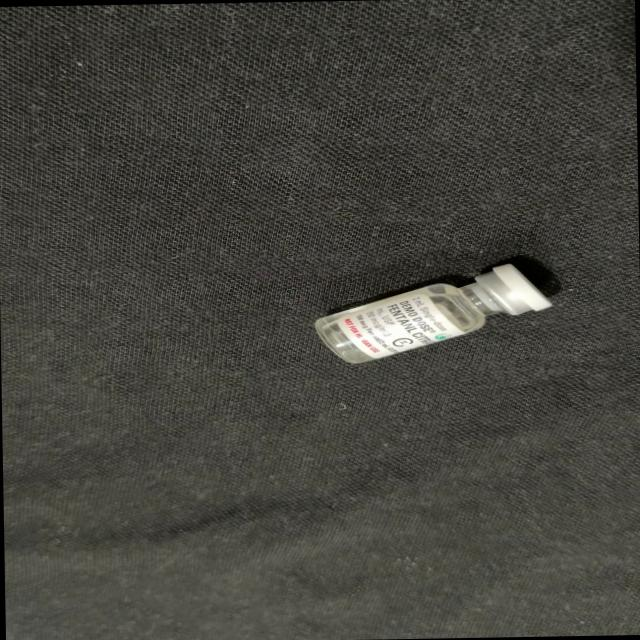fentanl_citrat: (316, 262, 550, 363)
